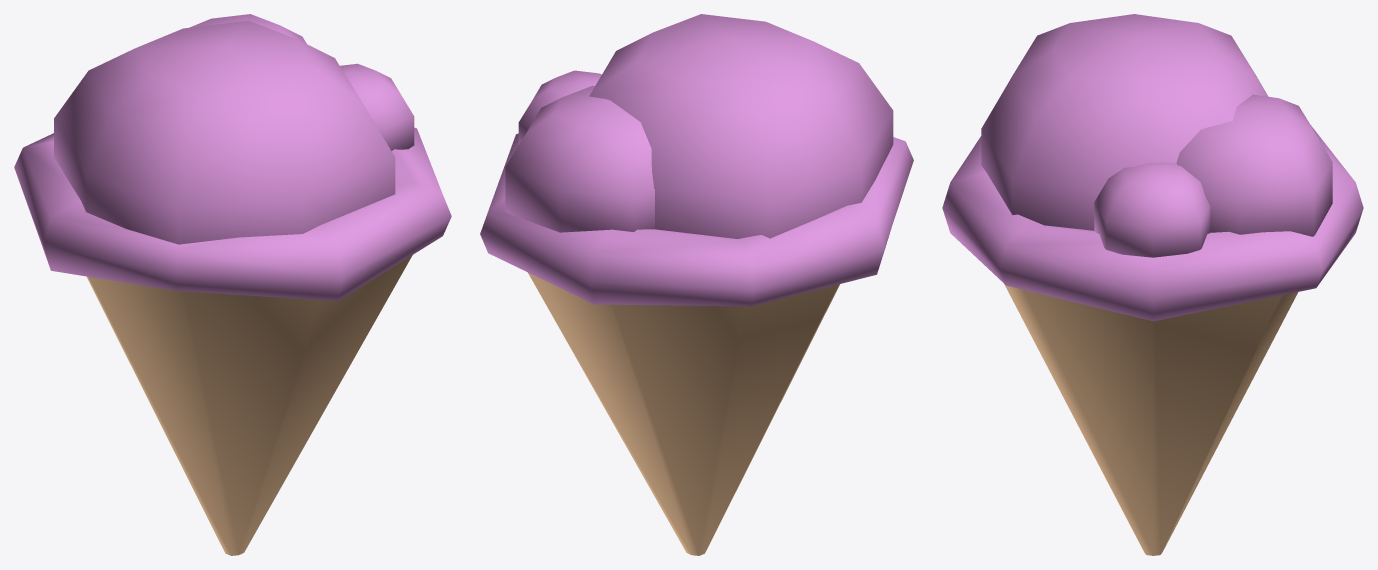
The model's file is Collectible_IceCream.fbx.
3 renders of one model, left to right at view 1: azimuth 30°, elevation 25°; view 2: azimuth 150°, elevation 25°; view 3: azimuth 270°, elevation 25°, orthographic. The views are drawn at different scales.
Visible parts, largest first — view 1: Collectible_IceCream; view 2: Collectible_IceCream; view 3: Collectible_IceCream.
Boxes of the visible parts, x1=… form: Collectible_IceCream: x1=14, y1=14, x2=451, y2=555; Collectible_IceCream: x1=480, y1=14, x2=913, y2=555; Collectible_IceCream: x1=942, y1=14, x2=1363, y2=555.
Bounding box in the file's own units: 89.02 × 116 × 87.49.
